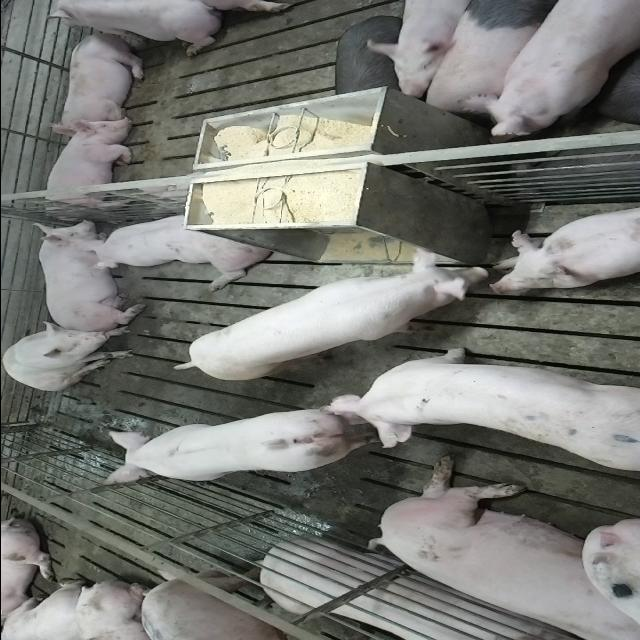Lateral_lying: (363, 454, 635, 636), (259, 538, 581, 640)
Sitting: (2, 322, 138, 391)
Standing: (176, 245, 492, 382), (312, 344, 636, 471), (468, 2, 640, 140), (100, 408, 376, 489), (418, 2, 568, 118), (139, 568, 335, 640), (367, 0, 482, 97)
Sternal_lying: (84, 210, 274, 284), (484, 201, 638, 292), (27, 220, 137, 328), (36, 2, 225, 56), (53, 30, 148, 130), (38, 120, 138, 214)
